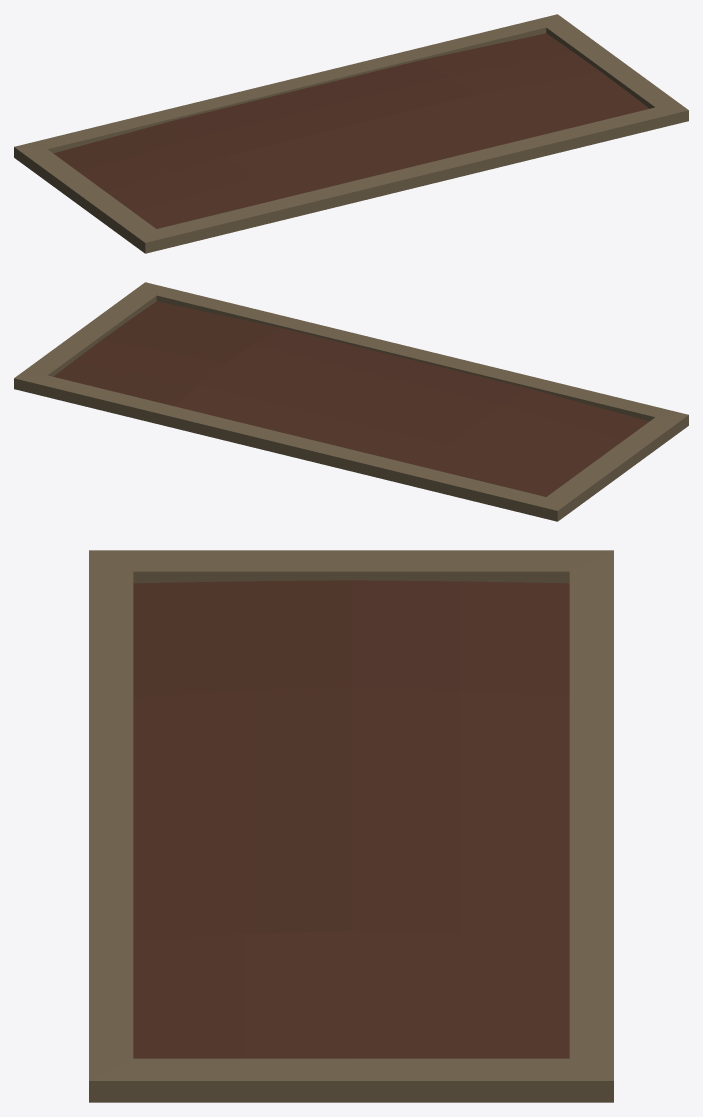
Rendered from GroundBed.fbx.
3 views of the same model, one above another, from view 1: azimuth 30°, elevation 25°; view 2: azimuth 150°, elevation 25°; view 3: azimuth 270°, elevation 25° (orthographic). The views are drawn at different scales.
Visible parts, largest first — view 1: GroundBed; view 2: GroundBed; view 3: GroundBed.
Part boxes in pixels (x1=…): GroundBed: x1=14, y1=14, x2=688, y2=253; GroundBed: x1=14, y1=282, x2=688, y2=521; GroundBed: x1=89, y1=550, x2=613, y2=1102.
Bounding box in the file's own units: 313 × 7.8 × 131.
